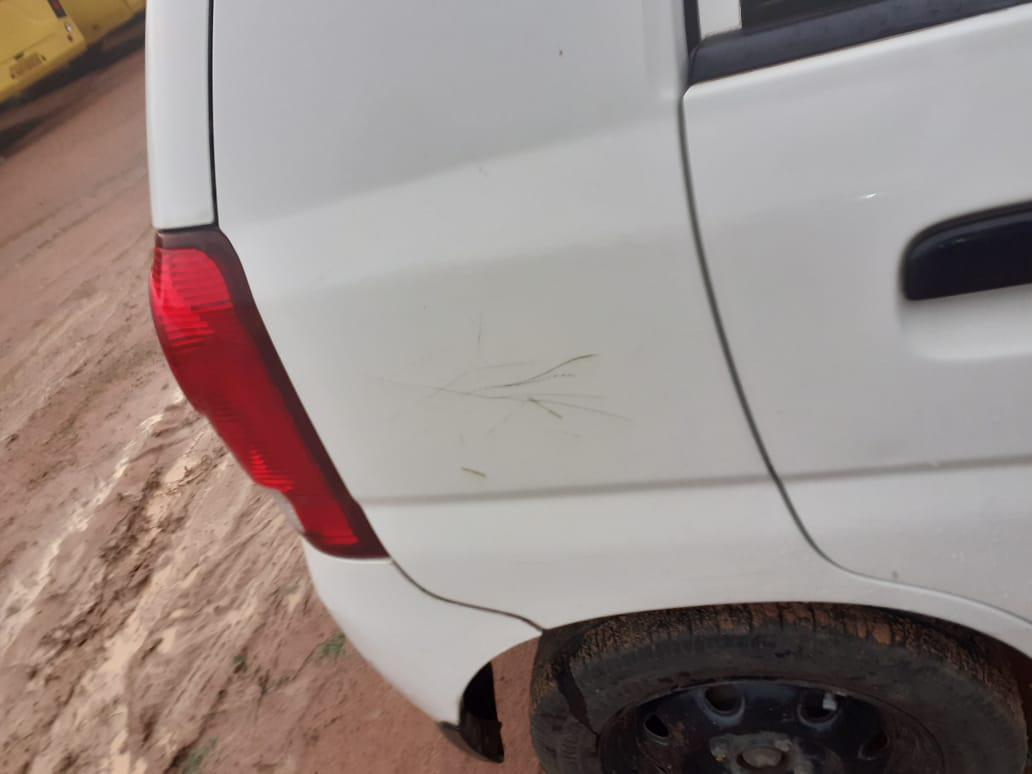quaterpanel-dent: (346, 154, 695, 724)
